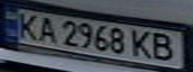2: (57, 18, 81, 48)
6: (90, 24, 112, 53)
8: (109, 25, 130, 56)
9: (75, 20, 96, 51)
A: (33, 15, 60, 44)
B: (148, 30, 181, 63)
K: (127, 27, 157, 60), (12, 10, 42, 40)
